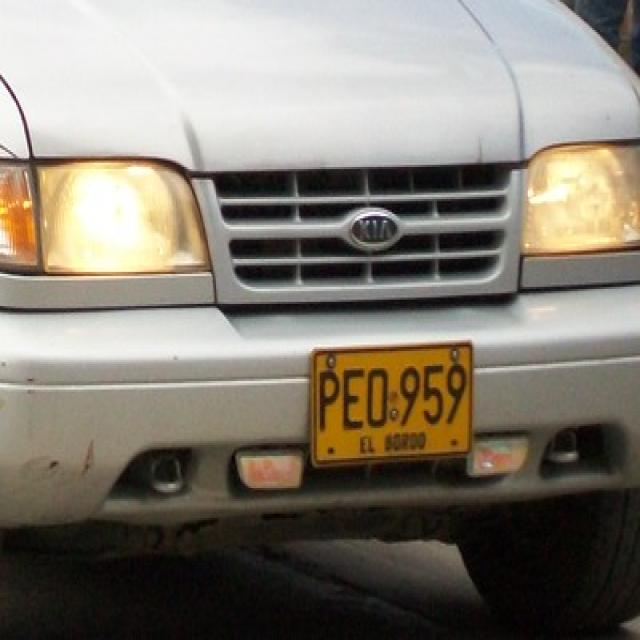placa_carro: (299, 338, 487, 484)
